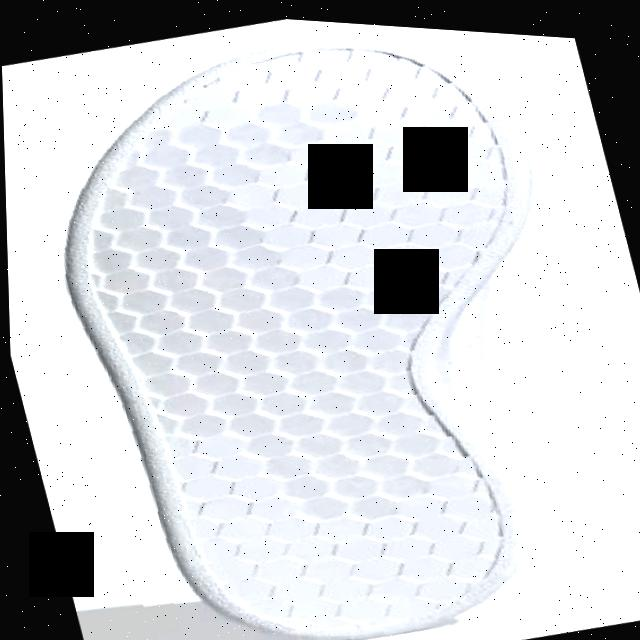shoe: (4, 0, 640, 640)
